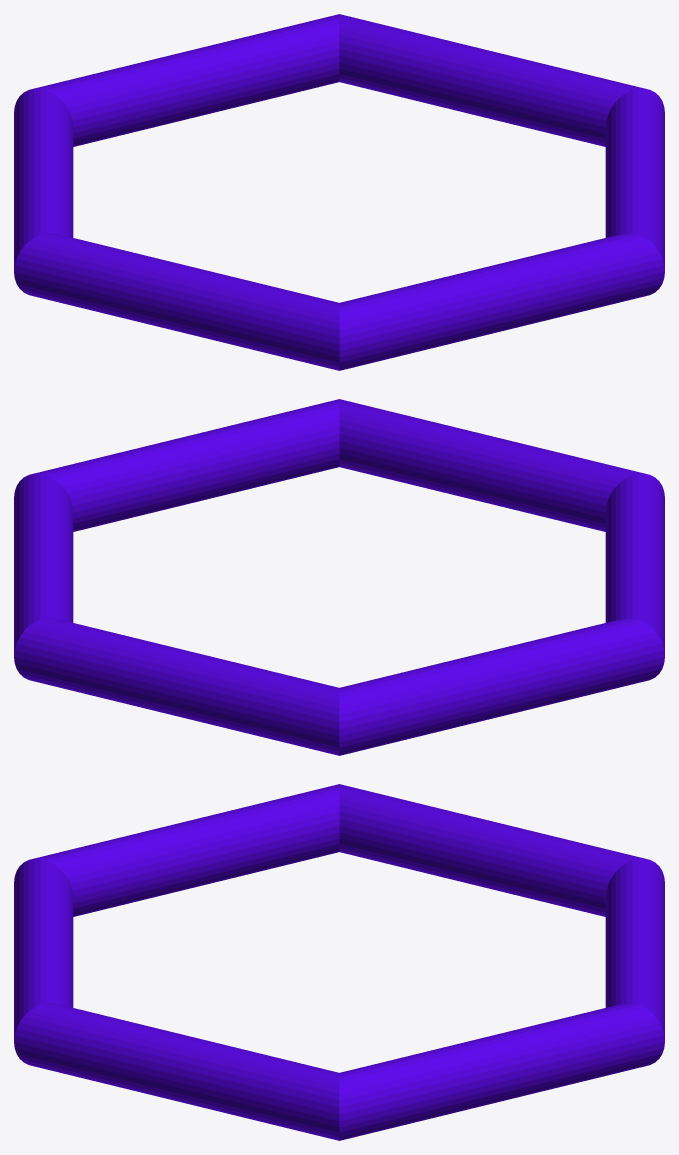
The model's file is ring3.gltf.
The picture shows the model from 3 angles, top to bottom: view 1: azimuth 30°, elevation 25°; view 2: azimuth 150°, elevation 25°; view 3: azimuth 270°, elevation 25°; orthographic projection.
Parts seen in each view (by area): view 1: Torus.004; view 2: Torus.004; view 3: Torus.004.
Boxes of the visible parts, <box> form: Torus.004: <box>14,14,664,370</box>; Torus.004: <box>14,399,664,755</box>; Torus.004: <box>14,784,664,1140</box>.
Size of the model in its own units: 11 by 0.9945 by 9.53.
